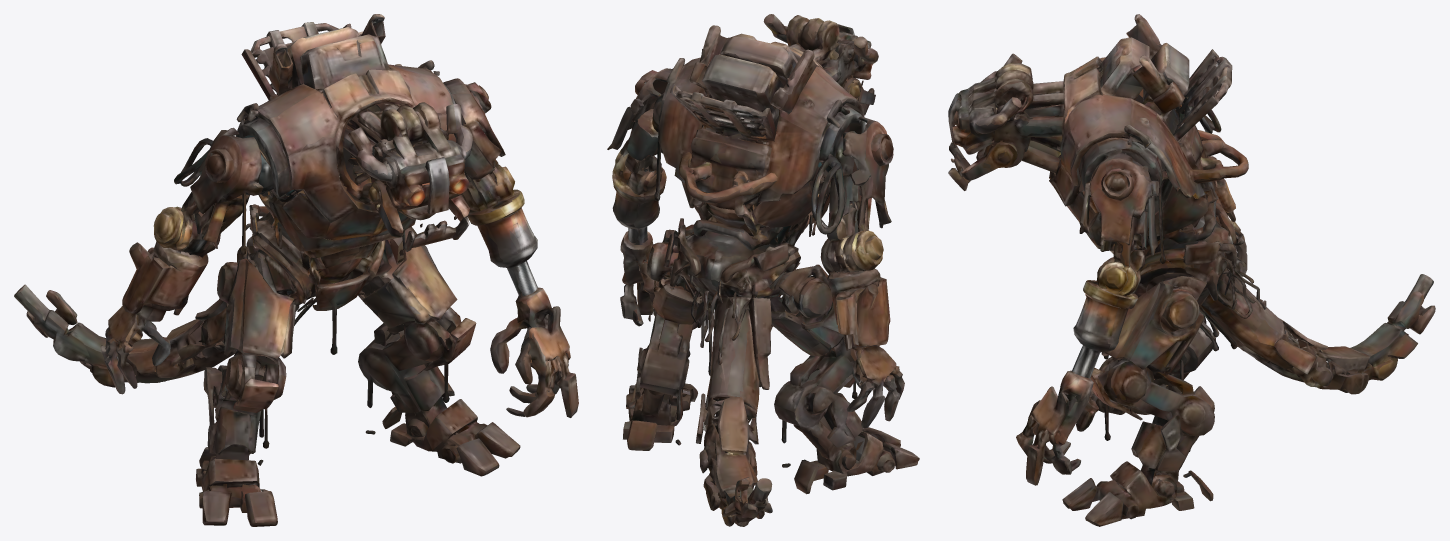
File: entity-n2.glb
The picture shows the model from 3 angles, left to right: view 1: azimuth 30°, elevation 25°; view 2: azimuth 150°, elevation 25°; view 3: azimuth 270°, elevation 25°; orthographic projection. The views are drawn at different scales.
Parts seen in each view (by area): view 1: geometry_0; view 2: geometry_0; view 3: geometry_0.
Part boxes in pixels (x1=…): geometry_0: x1=14, y1=14, x2=578, y2=526; geometry_0: x1=607, y1=14, x2=919, y2=526; geometry_0: x1=948, y1=14, x2=1435, y2=526.
Bounding box in the file's own units: 1.33 × 1.5 × 1.58.
Materials: 1 (1 with a texture image).
